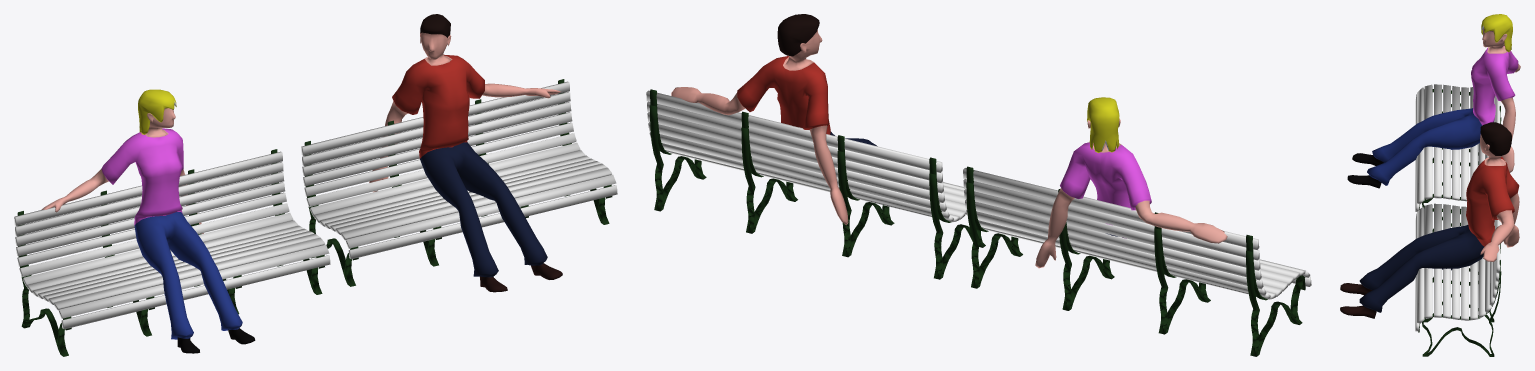
Rendered from bench_humans_001.fbx.
3 views of the same model, side by side, from view 1: azimuth 30°, elevation 25°; view 2: azimuth 150°, elevation 25°; view 3: azimuth 270°, elevation 25° (orthographic). The views are drawn at different scales.
Visible parts, largest first — view 1: bench_001_001, bench_001, human_001_001, human_001_005; view 2: bench_001, bench_001_001, human_001_001, human_001_005; view 3: human_001_001, human_001_005, bench_001, bench_001_001.
Boxes of the visible parts, <box> form: bench_001_001: <box>14,149,330,356</box>; bench_001: <box>301,79,617,286</box>; human_001_001: <box>369,14,562,292</box>; human_001_005: <box>41,89,255,353</box>; bench_001: <box>646,89,985,279</box>; bench_001_001: <box>963,166,1311,356</box>; human_001_001: <box>671,14,877,224</box>; human_001_005: <box>1035,97,1227,268</box>; human_001_001: <box>1340,122,1519,318</box>; human_001_005: <box>1347,14,1520,188</box>; bench_001: <box>1415,203,1501,356</box>; bench_001_001: <box>1415,84,1501,232</box>.
Size of the model in its own units: 4.04 by 1.47 by 1.34.
